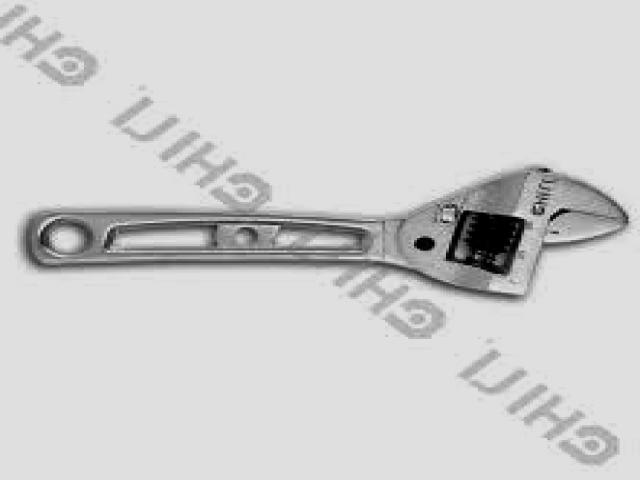Adjustable spanner: (29, 168, 627, 295)
